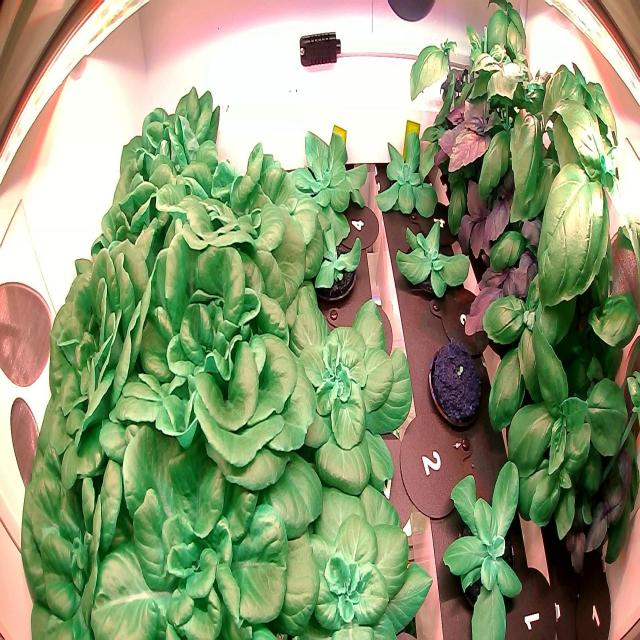Ready: (93, 370, 322, 639), (110, 207, 317, 497), (10, 438, 162, 640), (38, 230, 166, 445), (150, 158, 314, 318), (205, 145, 322, 288), (117, 83, 221, 202), (100, 125, 194, 252)
germination: (421, 319, 498, 438)
young: (272, 282, 428, 500), (279, 466, 436, 640), (441, 458, 528, 640), (370, 112, 441, 230), (287, 119, 372, 214), (395, 211, 472, 307), (305, 218, 366, 312)
